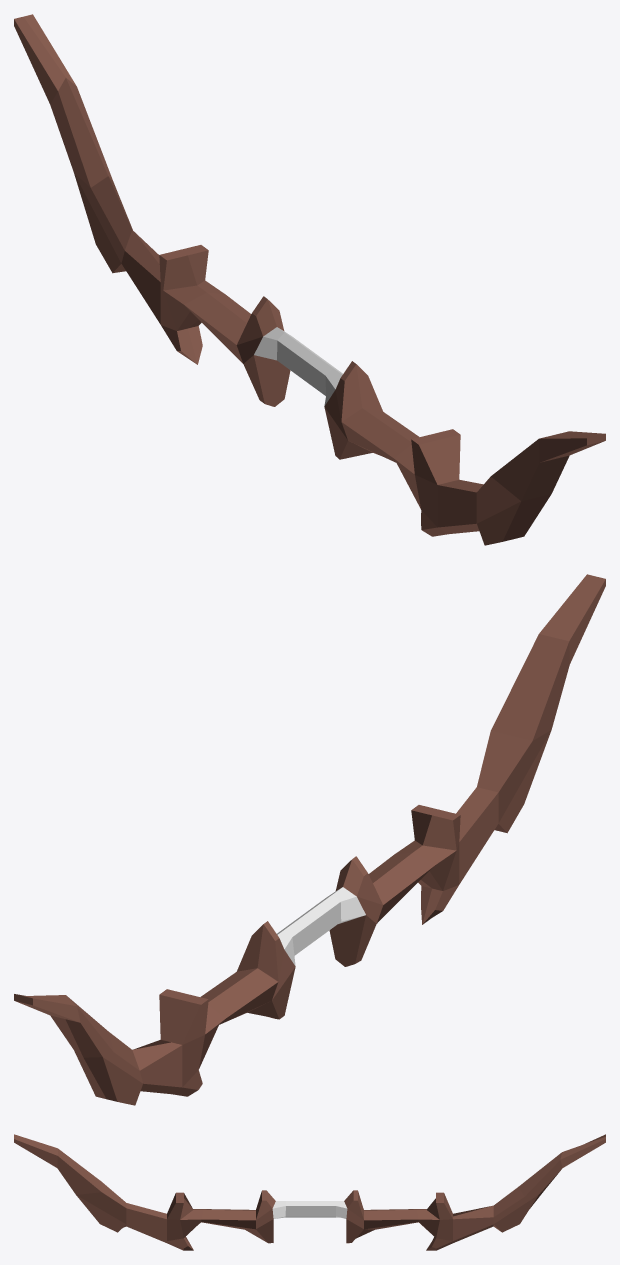
Rendered from Weapon_Bow.fbx.
3 views of the same model, one above another, from view 1: azimuth 30°, elevation 25°; view 2: azimuth 150°, elevation 25°; view 3: azimuth 270°, elevation 25° (orthographic). The views are drawn at different scales.
Parts seen in each view (by area): view 1: Bow; view 2: Bow; view 3: Bow.
Boxes of the visible parts, x1,y1,x2,y2 form: Bow: (14,14,605,545); Bow: (14,574,605,1105); Bow: (14,1134,605,1250).
Size of the model in its own units: 6.5 by 32.82 by 154.
